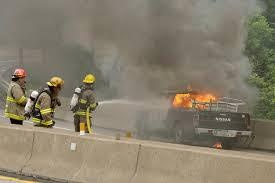fire: (171, 86, 218, 109), (211, 139, 222, 148)
